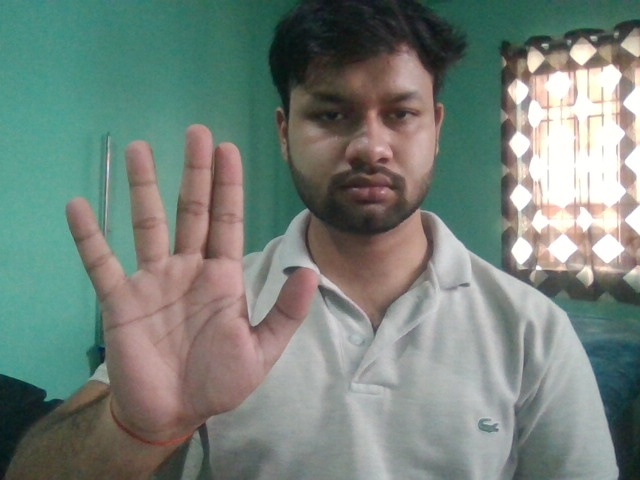Hello: (63, 122, 321, 438)
